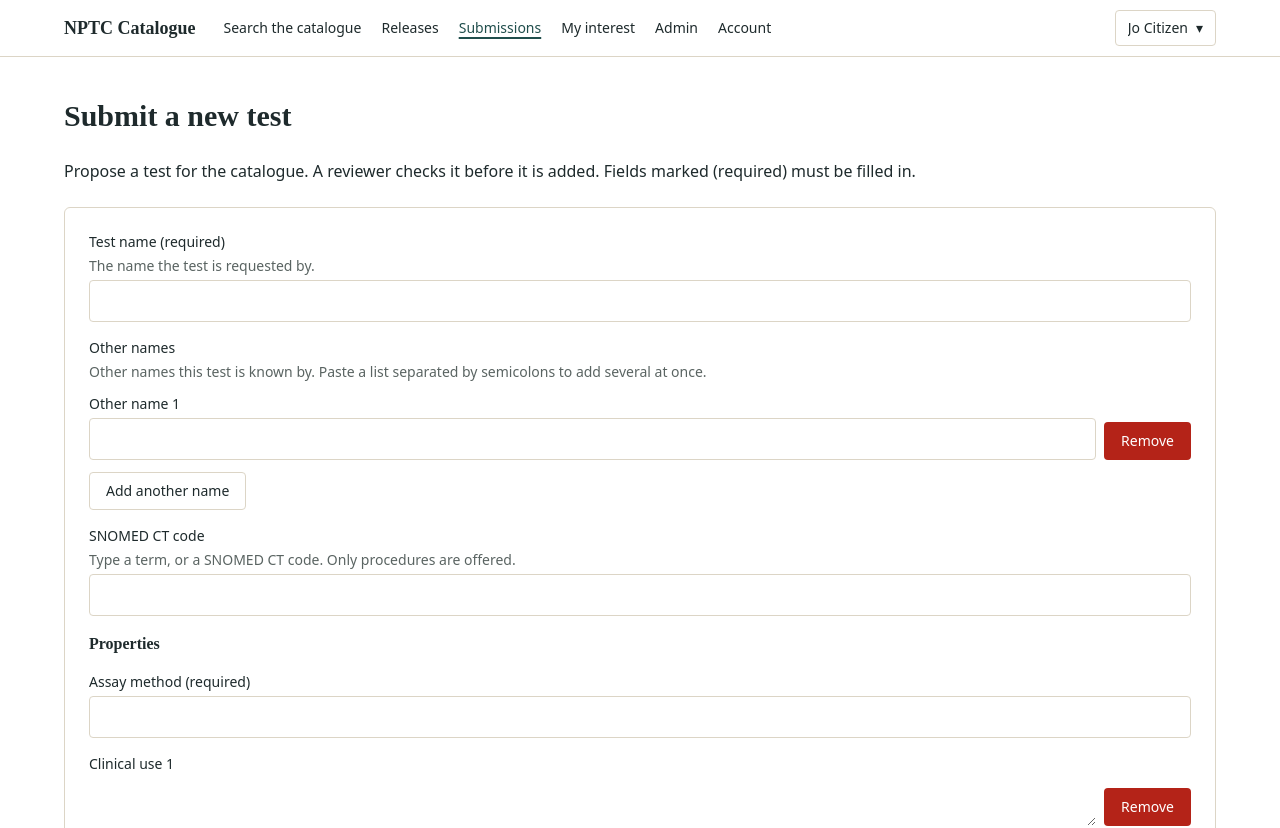
Test: SubmissionNewPage fields › keeps what a row holds when a list is pasted into it
Expected: the field labelled "Test name (required)" is shown, [89,280,1191,322]
Step 1. Type "Ferritin" into the field labelled "Other name 1" → (593, 438), box [89,418,1096,460]
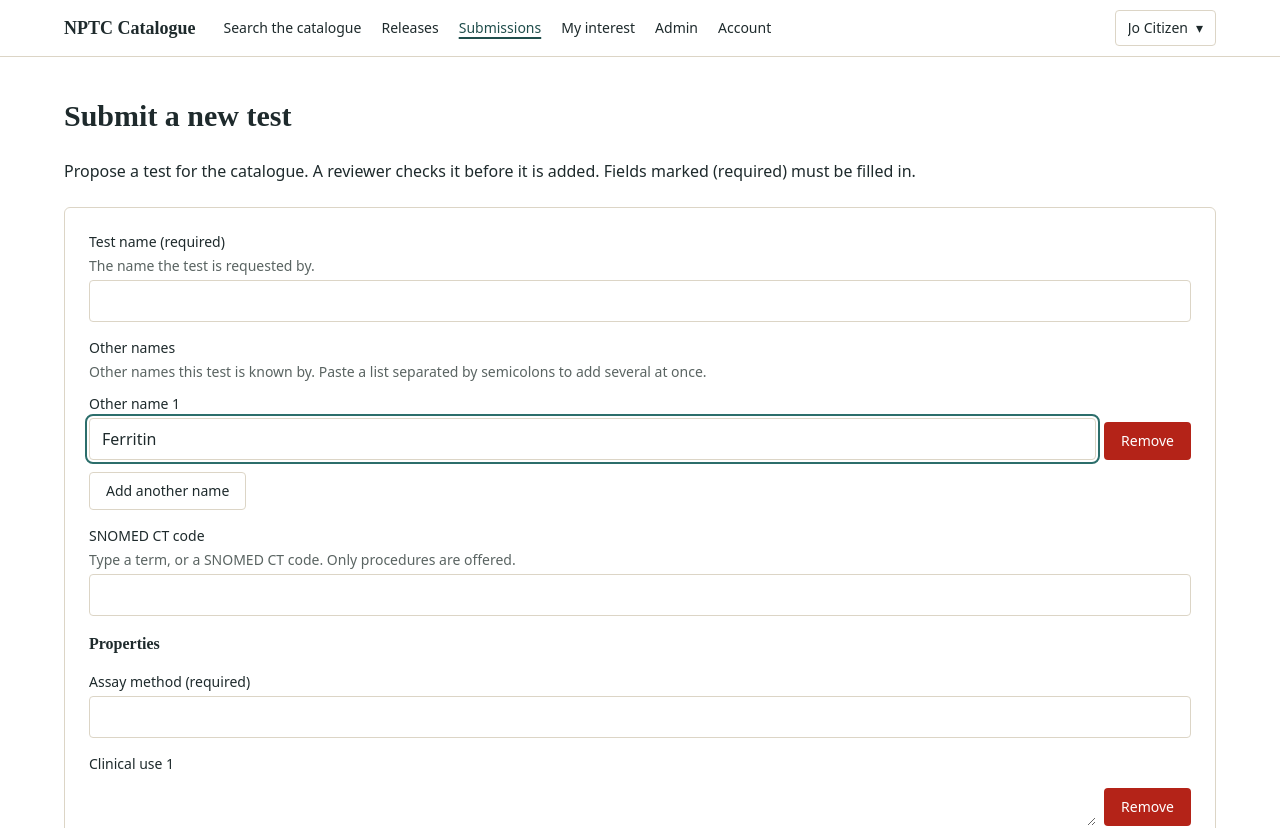
Step 2. Type keys "Fe store; Serum Fe"
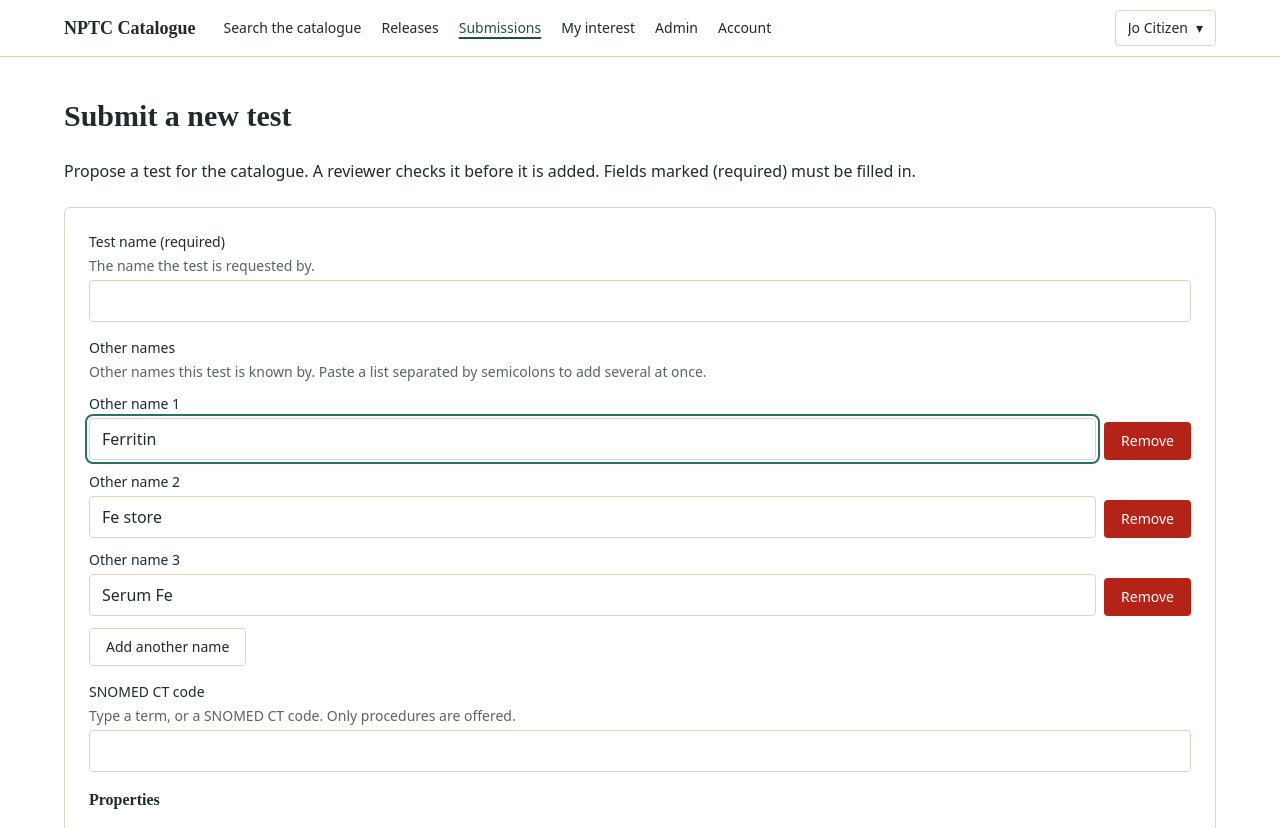
Now the field labelled "Other name 2" holds "Fe store", box [89,496,1096,538]
Now the field labelled "Other name 3" holds "Serum Fe", box [89,574,1096,616]
